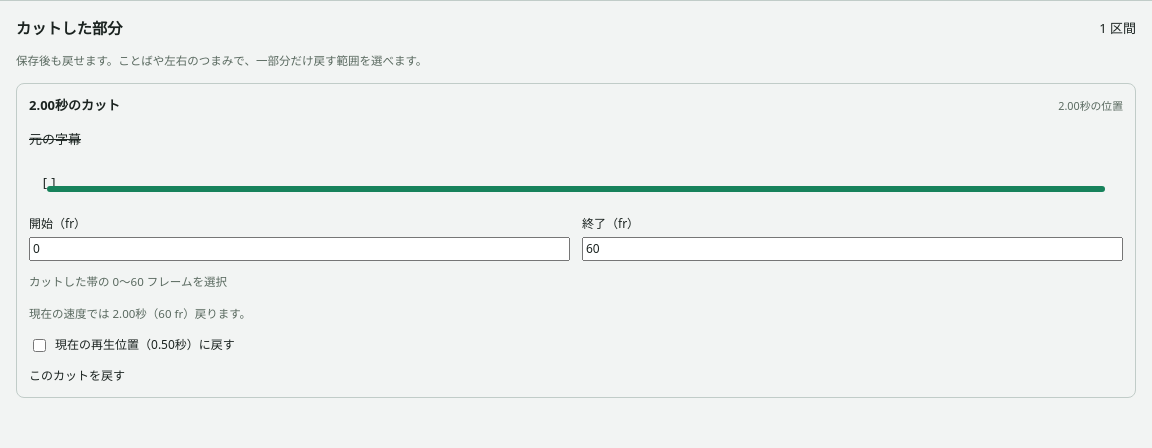
Test: blocks duplicate restore and makes panel flush await the actual command result
Click the button "このカットを戻す" at (77, 376), box [29,367,125,385]
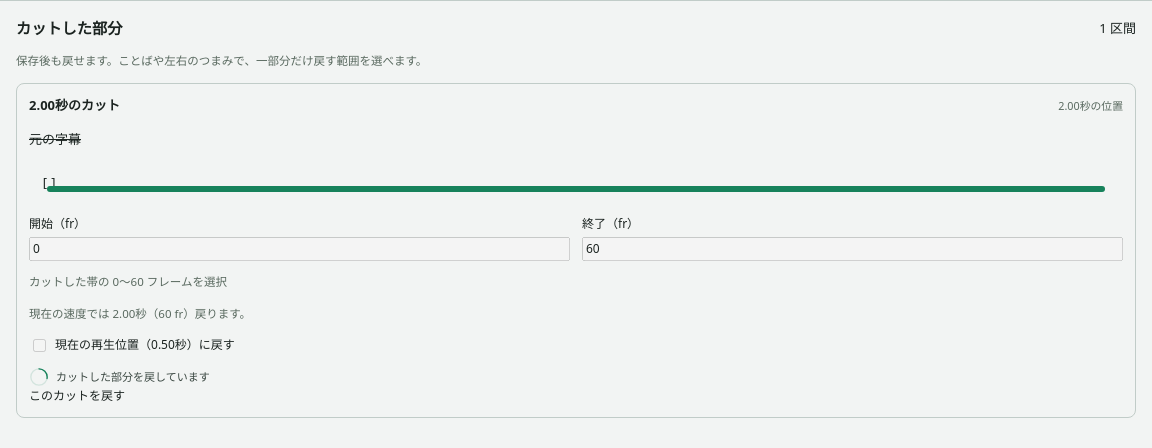
Click the button "このカットを戻す" at (77, 396), box [29,387,125,405]
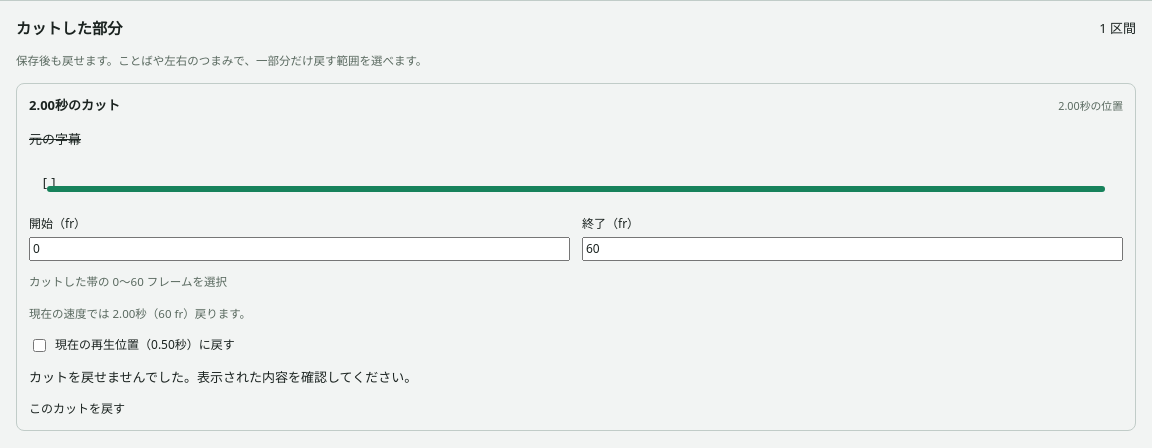
Now the message shows "戻せませんでした", box [29,368,417,386]
